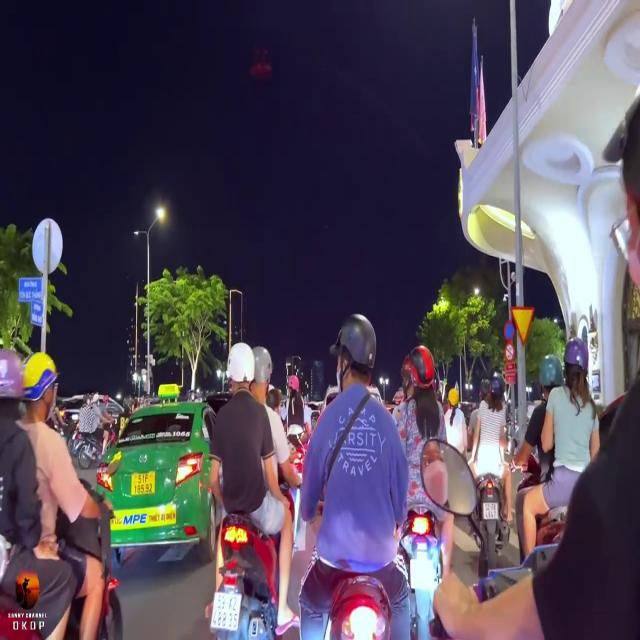bien_trang: (211, 590, 241, 631)
bien_vang: (131, 470, 155, 496)
